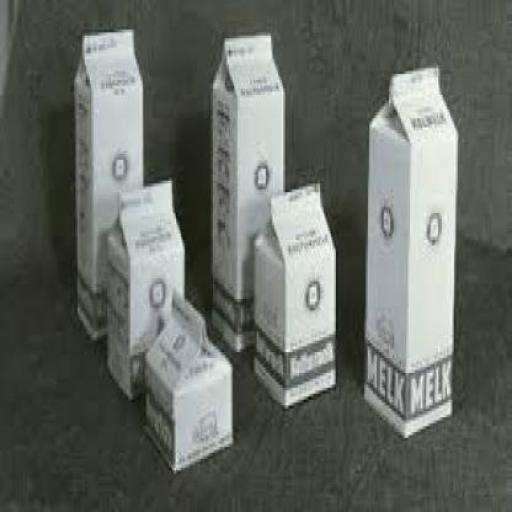cardboard: (364, 59, 450, 438), (209, 26, 283, 352), (72, 26, 142, 338), (252, 178, 334, 412), (104, 171, 186, 403), (142, 290, 231, 473)
